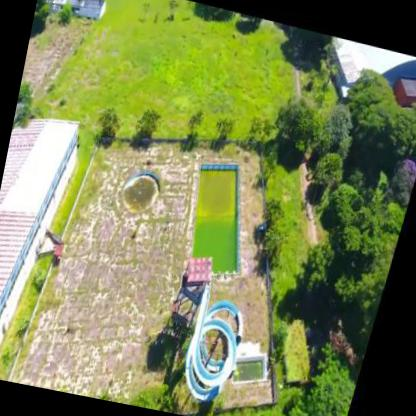agua: (184, 162, 254, 262), (120, 166, 166, 216)
